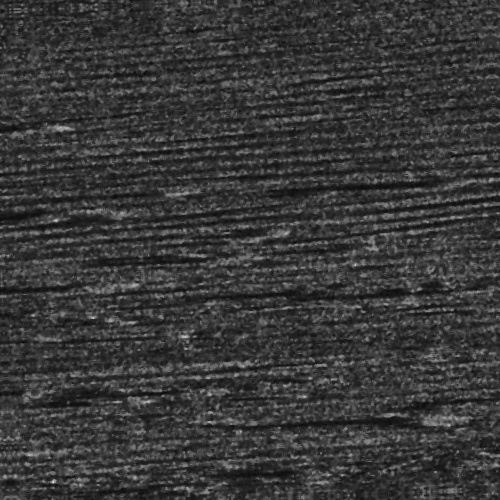object: (115, 476, 220, 487), (396, 416, 459, 427), (472, 405, 500, 410)
shadow: (233, 416, 427, 427), (38, 476, 167, 487), (380, 405, 493, 410), (402, 498, 500, 500)
